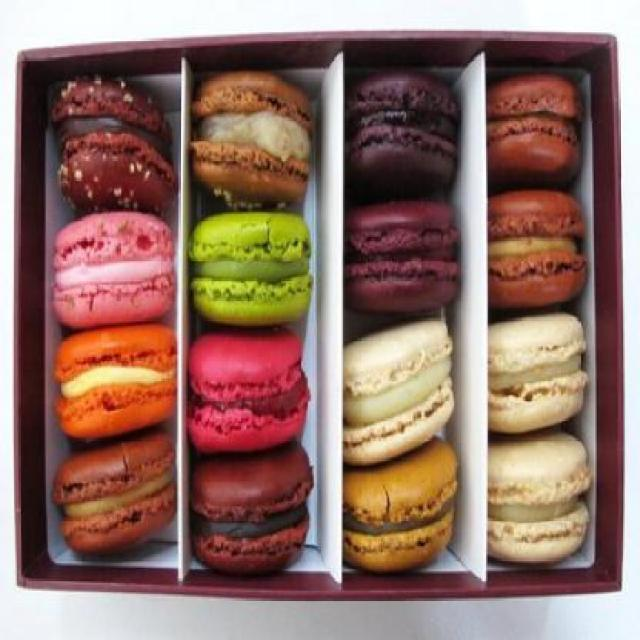Macaron: (37, 61, 608, 581)
